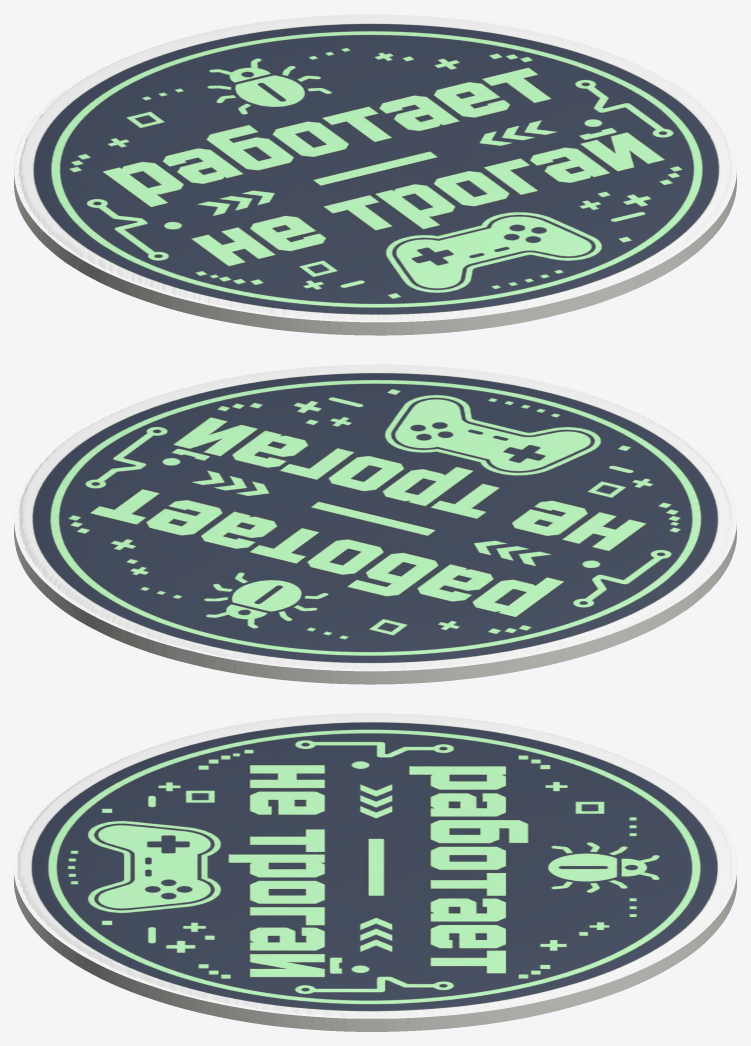
The model's file is sticker-glow.glb.
The picture shows the model from 3 angles, top to bottom: view 1: azimuth 30°, elevation 25°; view 2: azimuth 150°, elevation 25°; view 3: azimuth 270°, elevation 25°; orthographic projection.
Parts seen in each view (by area): view 1: sticker_base, resin_dome; view 2: sticker_base, resin_dome; view 3: sticker_base, resin_dome.
Part boxes in pixels (left/top/right/bottom): sticker_base: left=14, top=15, right=736, bottom=335; resin_dome: left=19, top=14, right=732, bottom=320; sticker_base: left=14, top=365, right=736, bottom=684; resin_dome: left=19, top=364, right=732, bottom=668; sticker_base: left=14, top=714, right=736, bottom=1031; resin_dome: left=18, top=713, right=731, bottom=1016.
Size of the model in its own units: 0.0699 by 0.0044 by 0.0701.
3 materials, 1 textured.
